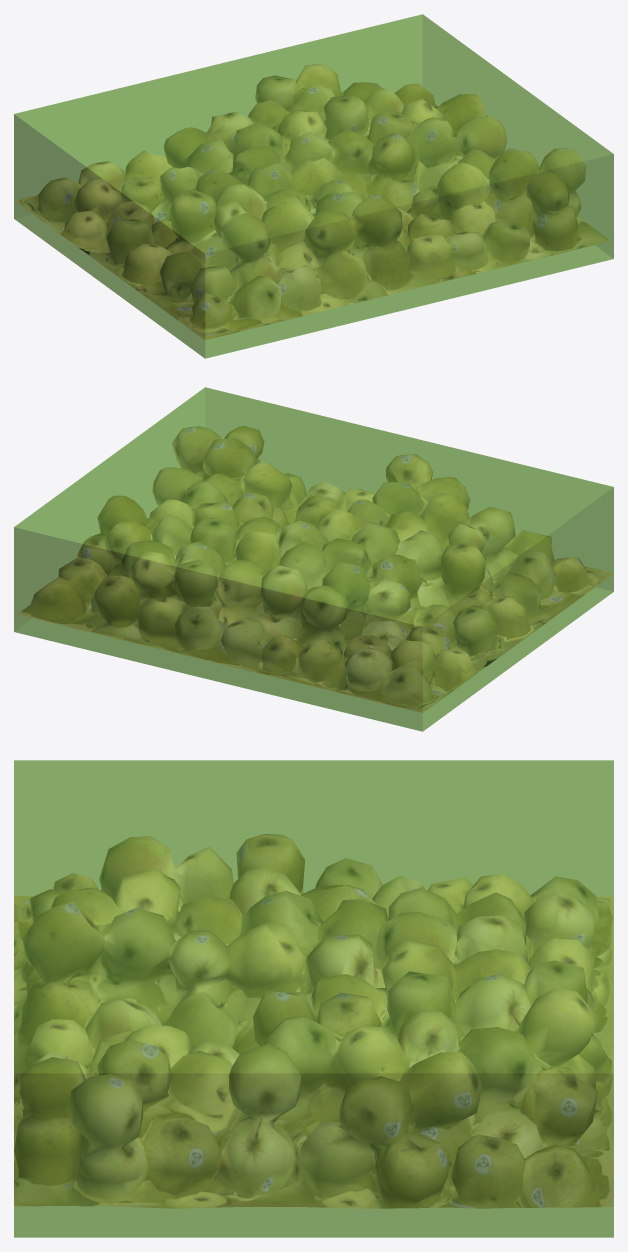
File: pg_Apple_Pile_02.fbx
3 renders of one model, top to bottom at view 1: azimuth 30°, elevation 25°; view 2: azimuth 150°, elevation 25°; view 3: azimuth 270°, elevation 25°, orthographic. The views are drawn at different scales.
Visible parts, largest first — view 1: pg_apple_pile_02_col, pg_apple_pile_02_LOD0; view 2: pg_apple_pile_02_col, pg_apple_pile_02_LOD0; view 3: pg_apple_pile_02_col, pg_apple_pile_02_LOD0.
Boxes of the visible parts, <box> form: pg_apple_pile_02_col: <box>14,14,613,358</box>; pg_apple_pile_02_LOD0: <box>14,64,610,340</box>; pg_apple_pile_02_col: <box>14,387,613,731</box>; pg_apple_pile_02_LOD0: <box>17,426,613,713</box>; pg_apple_pile_02_col: <box>14,760,613,1237</box>; pg_apple_pile_02_LOD0: <box>14,834,613,1208</box>.
Size of what is drawn, in the model's own units: 58 by 14.21 by 46.97.
